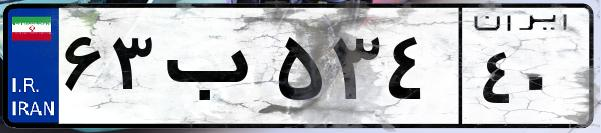0: (525, 38, 570, 115)
3: (330, 28, 385, 110), (110, 28, 158, 98)
4: (385, 28, 445, 110), (475, 38, 525, 113)
5: (270, 28, 330, 110)
6: (57, 26, 110, 100)
ب: (158, 20, 270, 120)
